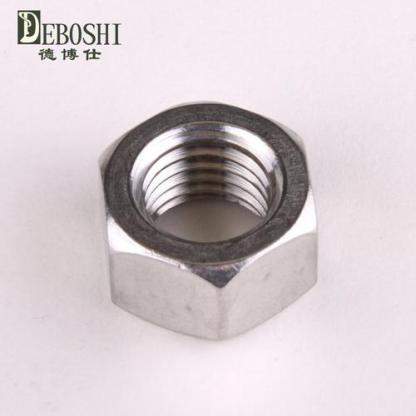FOD: (92, 97, 322, 344)
